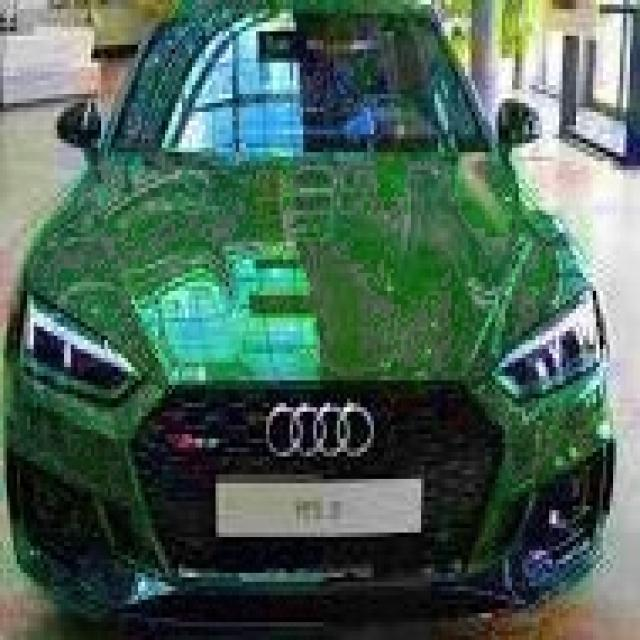green: (7, 0, 616, 636)
